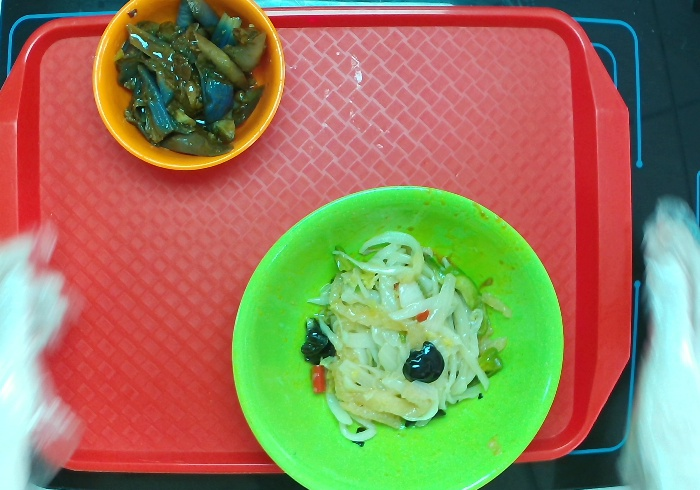YKMZ-Ju_Se_Yuan_Wan: (89, 2, 293, 176)
YKMZ-Lv_Se_Tang_Wan: (225, 179, 572, 490)
